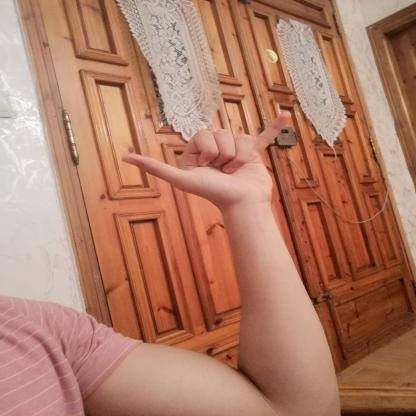YA: (101, 105, 307, 211)
